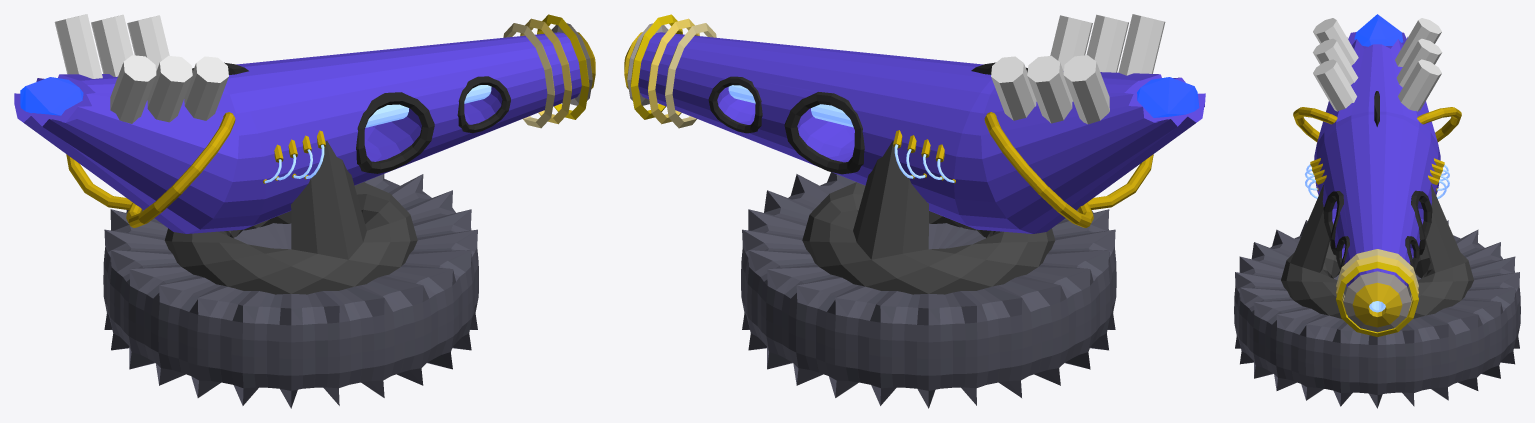
File: Plasma Tower 1.glb
3 views of the same model, side by side, from view 1: azimuth 30°, elevation 25°; view 2: azimuth 150°, elevation 25°; view 3: azimuth 270°, elevation 25° (orthographic). The views are drawn at different scales.
Parts seen in each view (by area): view 1: Gun, Base Detail, Turret part, Torus.001, Right Rec 3, Right Rec 2, Rad Hose Right, Left Rec 3, Right Rec 1, Icosphere, Left Rec 2, Left Rec 1 (+6 smaller); view 2: Gun, Base Detail, Turret part, Torus.006, Left Rec 3, Left Rec 2, Rad Hose Left, Left Rec 1, Right Rec 3, Icosphere, Right Rec 2, Right Rec 1 (+6 smaller); view 3: Base Detail, Gun, Turret part, Barrel End.002, Barrel End.001, Barrel Ring 1, Left Rec 1, Right Rec 1, Icosphere, Left Rec 3, Left Rec 2, Right Rec 3 (+9 smaller).
Part boxes in pixels (x1,y1,x2,y2): Gun: [14, 32, 581, 233]; Base Detail: [103, 174, 478, 408]; Turret part: [164, 141, 417, 294]; Torus.001: [356, 92, 434, 173]; Right Rec 3: [110, 55, 156, 123]; Right Rec 2: [147, 55, 192, 122]; Rad Hose Right: [126, 112, 235, 227]; Left Rec 3: [54, 14, 102, 78]; Right Rec 1: [184, 56, 228, 120]; Icosphere: [20, 77, 83, 115]; Left Rec 2: [91, 14, 133, 76]; Left Rec 1: [127, 15, 169, 71]; Gun: [638, 32, 1205, 233]; Base Detail: [741, 172, 1116, 408]; Turret part: [802, 141, 1055, 294]; Torus.006: [784, 92, 864, 174]; Left Rec 3: [1063, 55, 1109, 124]; Left Rec 2: [1027, 55, 1072, 123]; Rad Hose Left: [984, 112, 1093, 227]; Left Rec 1: [991, 56, 1036, 120]; Right Rec 3: [1118, 14, 1165, 75]; Icosphere: [1137, 77, 1199, 117]; Right Rec 2: [1086, 14, 1128, 72]; Right Rec 1: [1050, 15, 1092, 71]; Base Detail: [1234, 220, 1520, 408]; Gun: [1314, 32, 1440, 287]; Turret part: [1281, 184, 1473, 318]; Barrel End.002: [1352, 282, 1402, 327]; Barrel End.001: [1343, 271, 1411, 332]; Barrel Ring 1: [1336, 261, 1418, 336]; Left Rec 1: [1398, 59, 1441, 111]; Right Rec 1: [1313, 59, 1356, 111]; Icosphere: [1354, 14, 1403, 46]; Left Rec 3: [1395, 18, 1441, 66]; Left Rec 2: [1396, 38, 1441, 87]; Right Rec 3: [1313, 18, 1358, 65].
Size of the model in its own units: 6.38 by 3.64 by 3.65.
